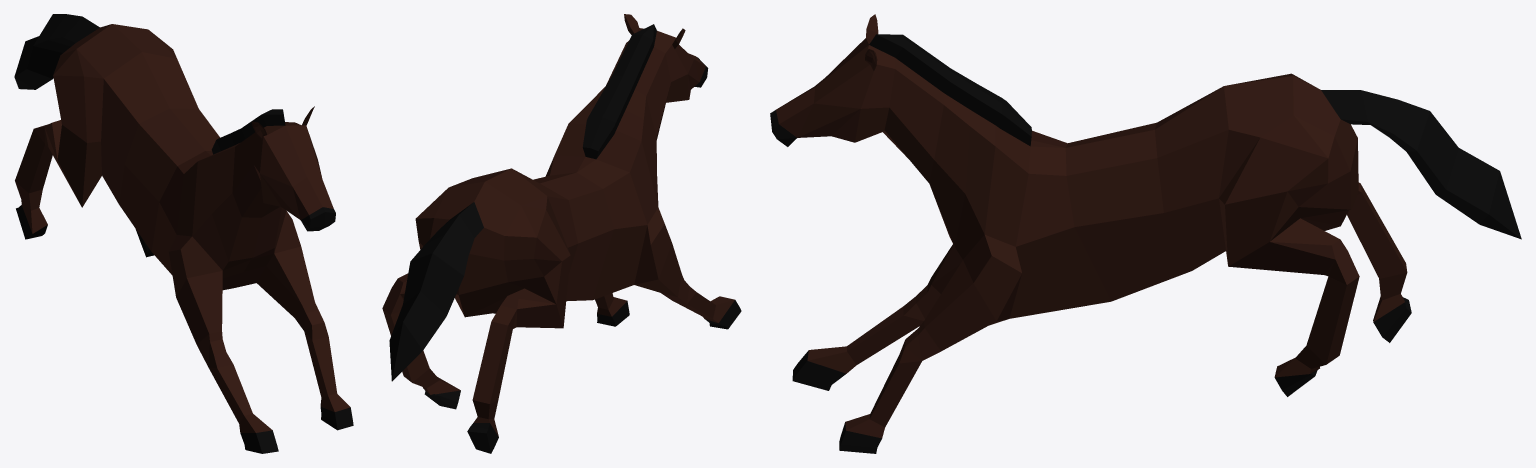
The model's file is Horse_000022.obj.
3 views of the same model, side by side, from view 1: azimuth 30°, elevation 25°; view 2: azimuth 150°, elevation 25°; view 3: azimuth 270°, elevation 25° (orthographic). The views are drawn at different scales.
Visible parts, largest first — view 1: Horse_Cylinder; view 2: Horse_Cylinder; view 3: Horse_Cylinder.
Boxes of the visible parts, x1,y1,x2,y2 form: Horse_Cylinder: [14, 14, 353, 453]; Horse_Cylinder: [382, 14, 741, 453]; Horse_Cylinder: [770, 14, 1521, 453].
Bounding box in the file's own units: 2.87 × 5.99 × 10.52.
